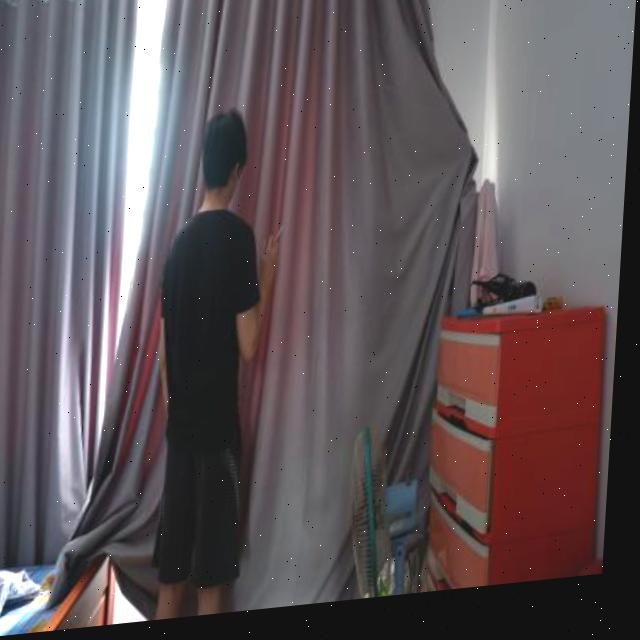cigarette: (279, 232, 287, 248)
